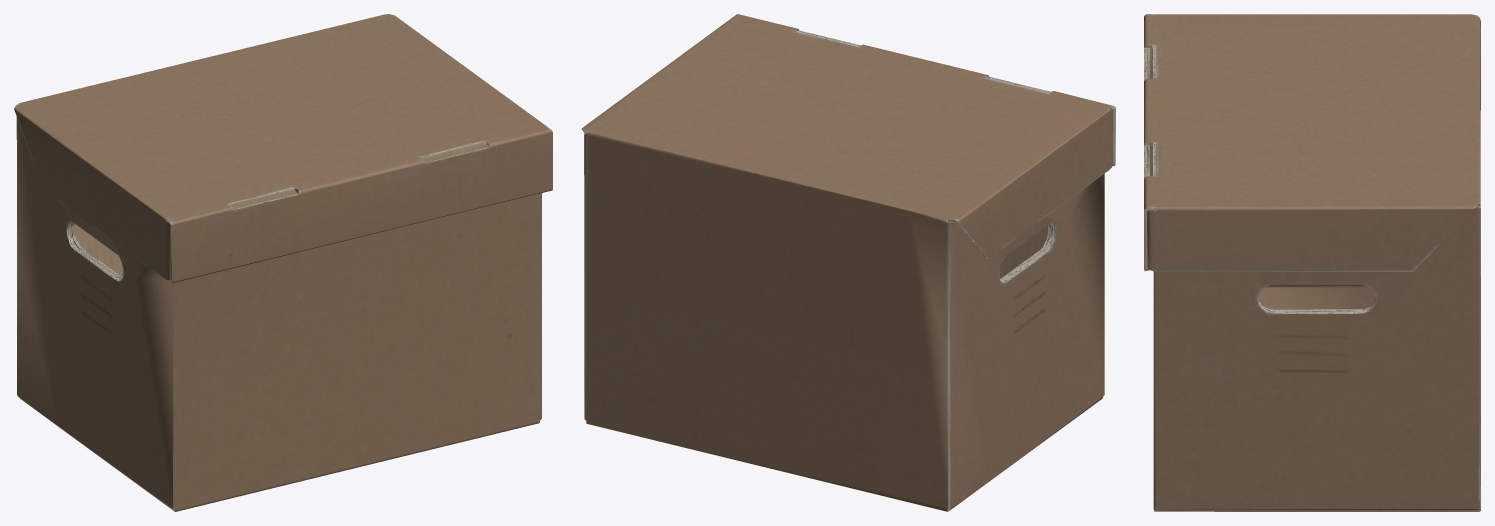
File: PAPPIS box with lid - brown.glb
3 renders of one model, left to right at view 1: azimuth 30°, elevation 25°; view 2: azimuth 150°, elevation 25°; view 3: azimuth 270°, elevation 25°, orthographic. The views are drawn at different scales.
Visible parts, largest first — view 1: model; view 2: model; view 3: model.
Boxes of the visible parts, x1,y1,x2,y2 form: model: (14,14,552,511); model: (581,14,1115,511); model: (1144,14,1480,511).
Bounding box in the file's own units: 0.3464 × 0.2565 × 0.2536.
Materials: 1 (1 with a texture image).
